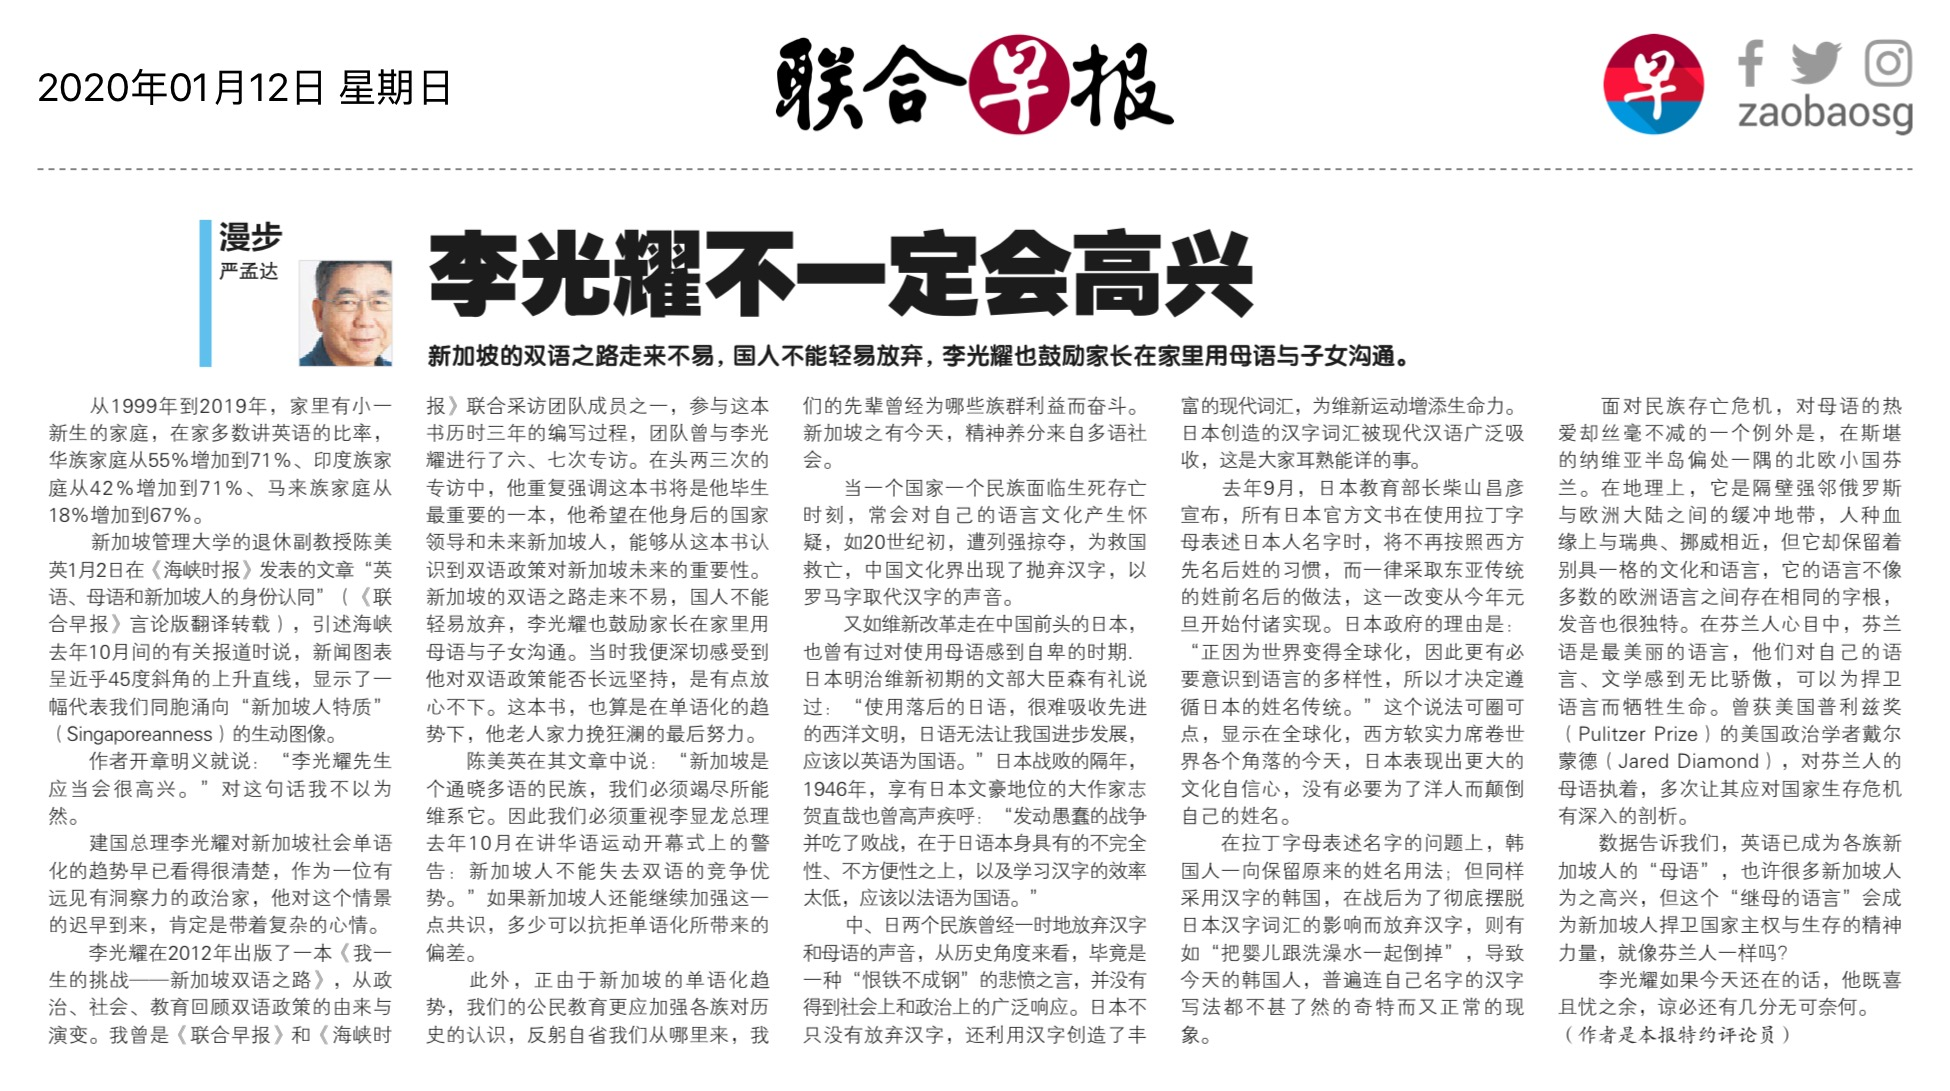heading: (422, 214, 1262, 324)
